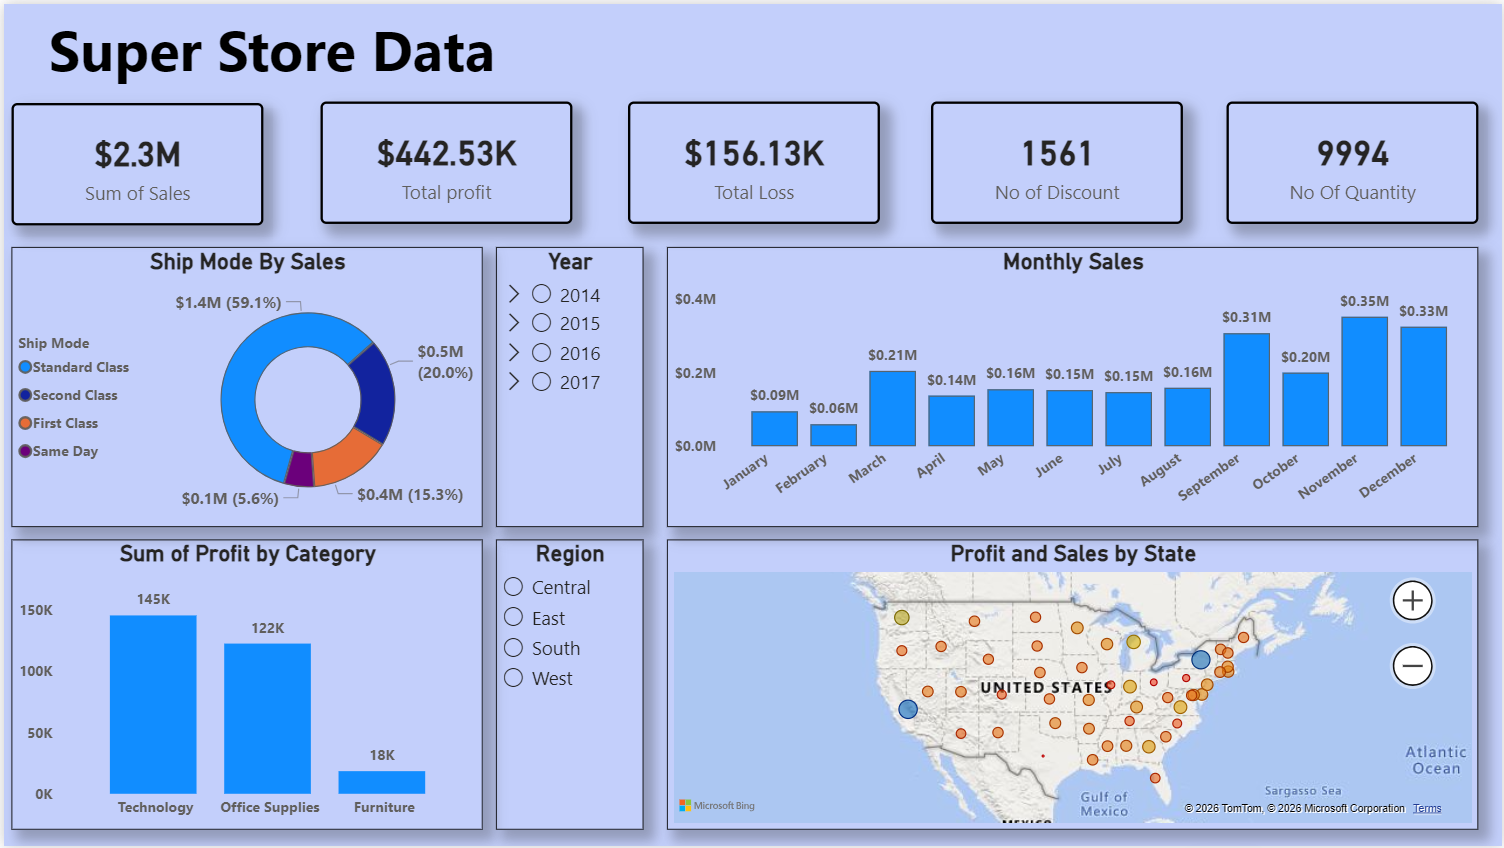

What the dashboard file says about the page in this screenshot:
{"tool":"powerbi","page":{"name":"Page 1","canvas":[1280,720],"ordinal":0},"visuals":[{"type":"card","fields":{"Values":["Sum(Superstore.Sales)"]},"box":[6.1,84.8,215,104.5],"z":0},{"type":"card","fields":{"Values":["Superstore.Total profit"]},"box":[271,83.3,215,104.5],"z":1000},{"type":"card","fields":{"Values":["Sum(Sample - Superstore.Discount)"]},"box":[791.9,83.3,215,104.5],"z":2000},{"type":"card","fields":{"Values":["CountNonNull(Sample - Superstore.Quantity)"]},"box":[1044.8,83.3,215,104.5],"z":3000},{"type":"donutChart","title":"Ship Mode By Sales","fields":{"Y":["Sum(Sample - Superstore.Sales)"],"Category":["Superstore.Ship Mode"]},"box":[6.1,207.4,402.8,239.2],"z":4000},{"type":"lineStackedColumnComboChart","title":"Monthly Sales","fields":{"Category":["Sample - Superstore.Order Date.Variation.Date Hierarchy.Month"],"Y":["Sum(Superstore.Sales)"]},"box":[566.3,207.4,693.5,239.2],"z":5000},{"type":"card","fields":{"Values":["Superstore.Total Loss"]},"box":[533,83.3,215,104.5],"z":6000},{"type":"listSlicer","fields":{"Values":["Superstore.Order Date.Variation.Date Hierarchy.Year","Superstore.Order Date.Variation.Date Hierarchy.Quarter","Superstore.Order Date.Variation.Date Hierarchy.Month","Superstore.Order Date.Variation.Date Hierarchy.Day"]},"box":[420.9,207.4,125.7,239.2],"z":7000},{"type":"listSlicer","fields":{"Values":["Superstore.Region"]},"box":[420.9,457.3,125.7,248.3],"z":8000},{"type":"clusteredColumnChart","fields":{"Category":["Superstore.Category"],"Y":["Sum(Superstore.Profit)"]},"box":[6.1,457.3,402.8,248.3],"z":9000},{"type":"map","title":"Profit and Sales by State","fields":{"Category":["Superstore.State"],"Size":["Sum(Superstore.Profit)"]},"box":[566.3,457.3,693.5,248.3],"z":10000},{"type":"textbox","box":[33.3,0,475.5,83.3],"z":11000}]}

Visuals, with their boxes in screenshot pixels (x1, y1, x2, y2), scaled from the page's 1280x720 canvas onto the 1504x848 screenshot:
card - Sum(Superstore.Sales): [7,100,260,223]
card - Superstore.Total profit: [318,98,571,221]
card - Sum(Sample - Superstore.Discount): [930,98,1183,221]
card - CountNonNull(Sample - Superstore.Quantity): [1228,98,1480,221]
"Ship Mode By Sales" donutChart: [7,244,480,526]
"Monthly Sales" lineStackedColumnComboChart: [665,244,1480,526]
card - Superstore.Total Loss: [626,98,879,221]
listSlicer - Superstore.Order Date.Variation.Date Hierarchy.Year x Superstore.Order Date.Variation.Date Hierarchy.Quarter: [495,244,642,526]
listSlicer - Superstore.Region: [495,539,642,831]
clusteredColumnChart - Superstore.Category x Sum(Superstore.Profit): [7,539,480,831]
"Profit and Sales by State" map: [665,539,1480,831]
textbox: [39,0,598,98]
